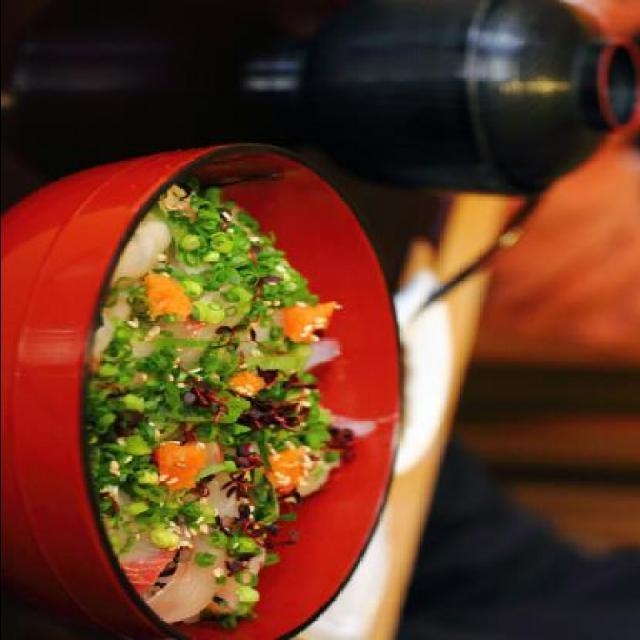Salad: (96, 174, 367, 636)
